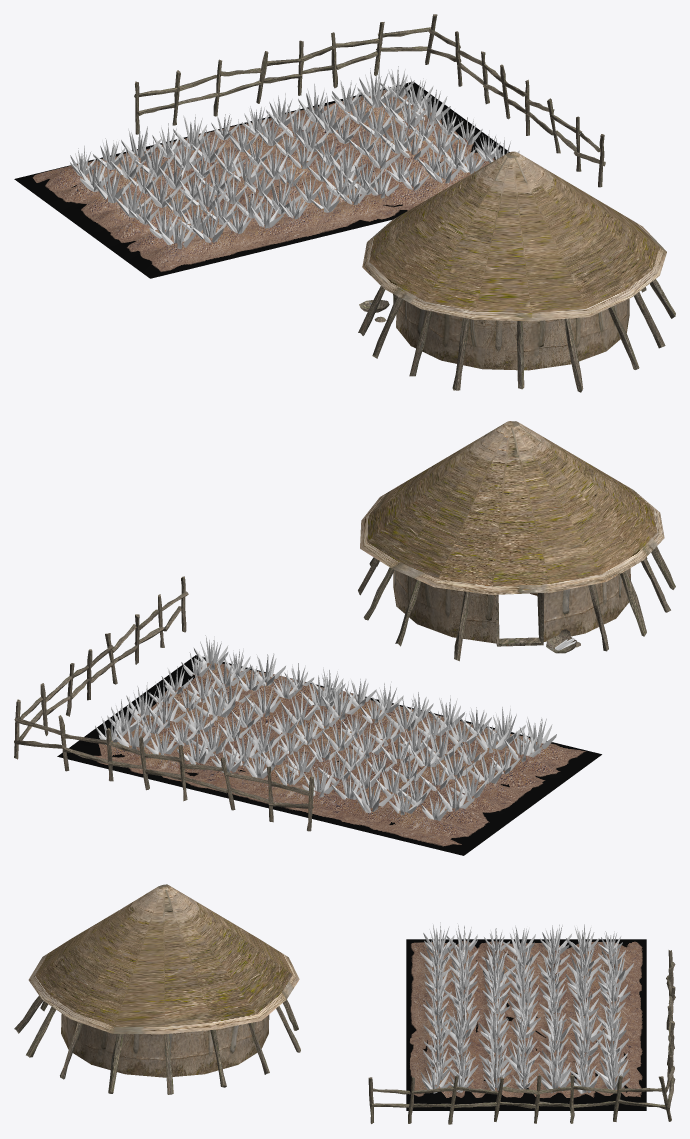
File: HexFarm_v2.fbx
3 views of the same model, one above another, from view 1: azimuth 30°, elevation 25°; view 2: azimuth 150°, elevation 25°; view 3: azimuth 270°, elevation 25° (orthographic). The views are drawn at different scales.
Visible parts, largest first — view 1: FarmSalad.001; view 2: FarmSalad.001; view 3: FarmSalad.001.
Part boxes in pixels (x1,y1,x2,y2): FarmSalad.001: (14,14,675,392); FarmSalad.001: (14,421,675,855); FarmSalad.001: (14,884,675,1124).
Size of the model in its own units: 87.62 by 33.41 by 131.
6 materials, 5 textured.
